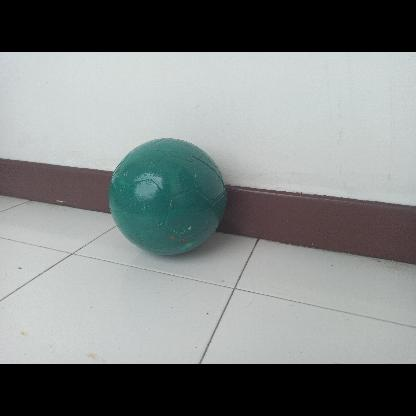green_ball: (110, 138, 226, 254)
